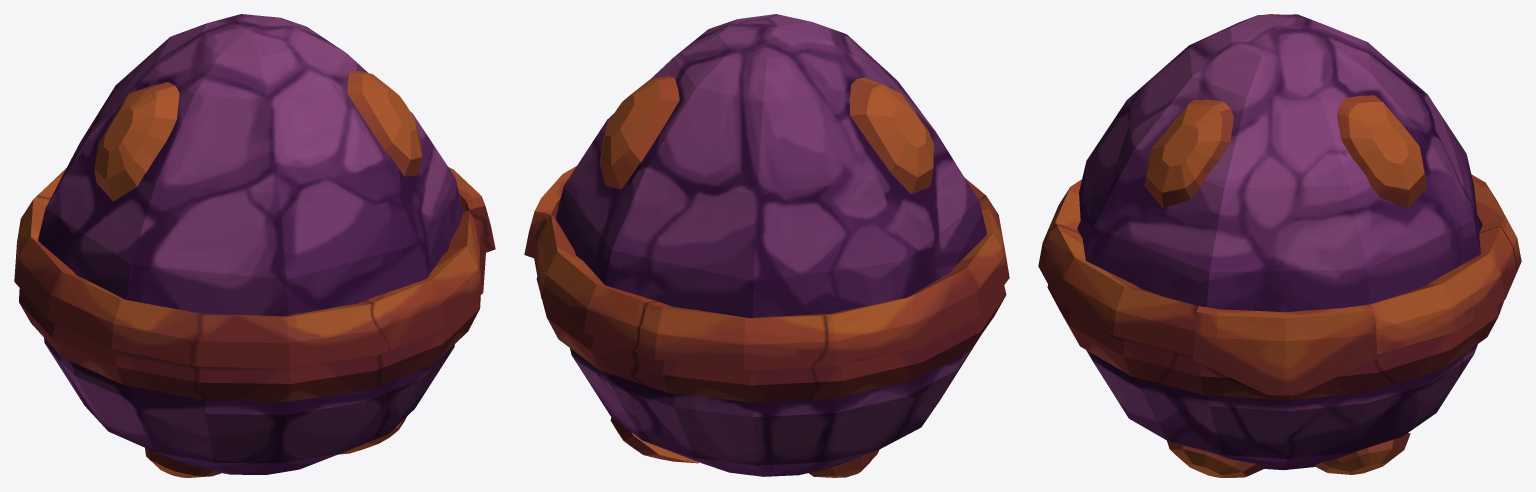
The model's file is ArabanItem.fbx.
3 views of the same model, side by side, from view 1: azimuth 30°, elevation 25°; view 2: azimuth 150°, elevation 25°; view 3: azimuth 270°, elevation 25° (orthographic).
Visible parts, largest first — view 1: referencia.005; view 2: referencia.005; view 3: referencia.005.
Boxes of the visible parts, left/top/right/bottom form: referencia.005: left=14, top=14, right=495, bottom=477; referencia.005: left=524, top=14, right=1009, bottom=477; referencia.005: left=1038, top=14, right=1521, bottom=477.
Size of the model in its own units: 174 by 171 by 177.
1 material, 1 textured.
